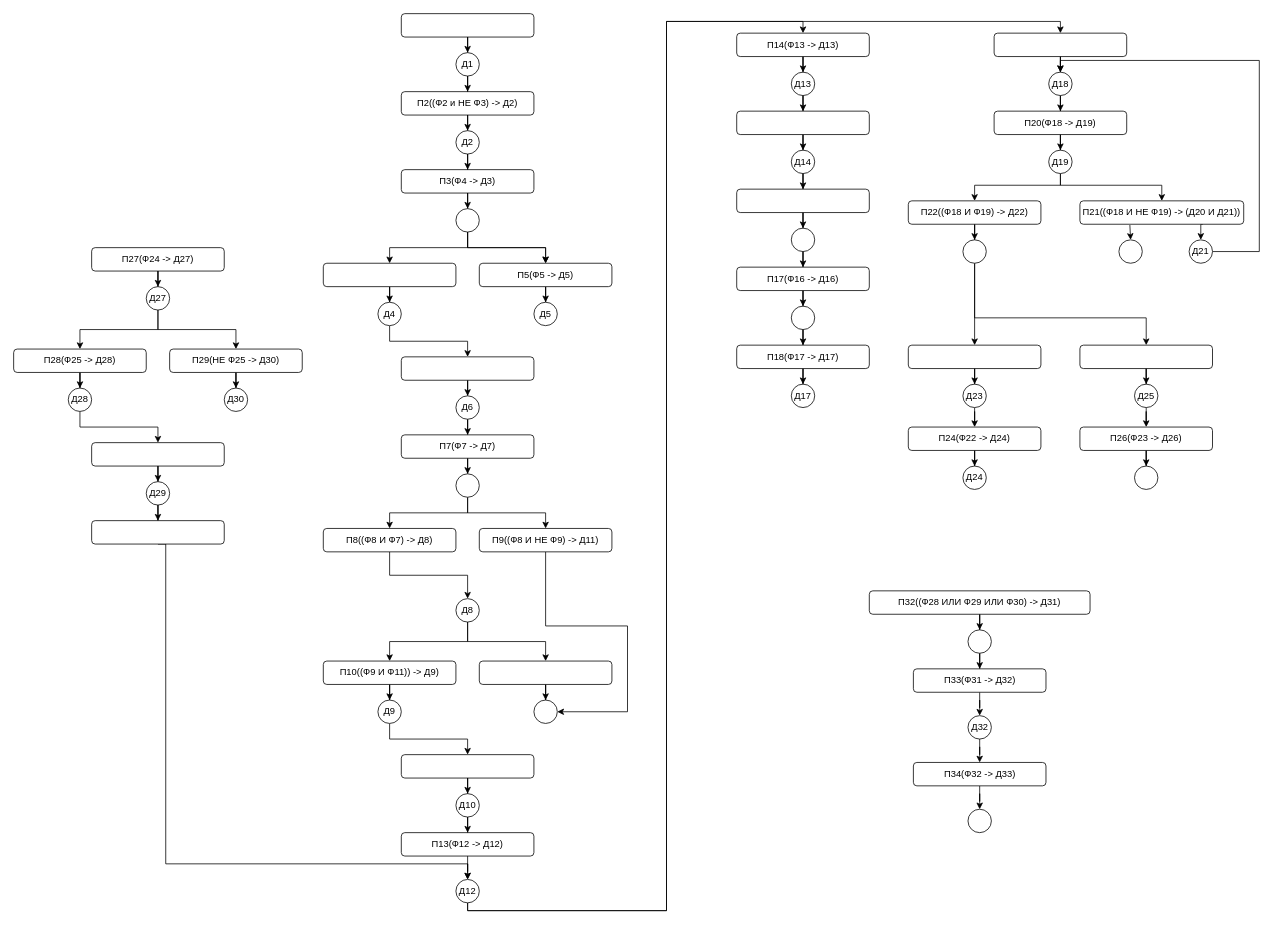
Some shapes in this 1279 by 931 pixel diagram are drawn without their labels. The centre of each missing label's shape, as x and y in pixels:
Д11: (x=545, y=711)
Д15: (x=803, y=239)
Д16: (x=803, y=317)
Д20: (x=1130, y=251)
Д22: (x=974, y=251)
Д26: (x=1146, y=477)
Д3: (x=467, y=220)
Д31: (x=979, y=641)
Д33: (x=979, y=820)
Д7: (x=467, y=485)
П1(Ф1 -> Д1): (x=467, y=25)
П11((Ф9 И НЕ Ф11) -> Д11): (x=545, y=672)
П12(Ф10 -> Д10): (x=467, y=766)
П15(Ф14 -> Д14 ): (x=802, y=122)
П16((Ф14 И Ф15) -> Д15 ): (x=802, y=200)
П19(Ф13 -> Д18): (x=1060, y=44)
П23(Ф20 -> Д23 ): (x=974, y=356)
П25(Ф21 -> Д25 ): (x=1146, y=356)
П30(Ф26 -> Д29 ): (x=157, y=454)
П31(Ф27 -> Д12 ): (x=157, y=532)
П4(НЕ Ф5 -> Д4): (x=389, y=274)
П6(Ф6 -> Д6): (x=467, y=368)
